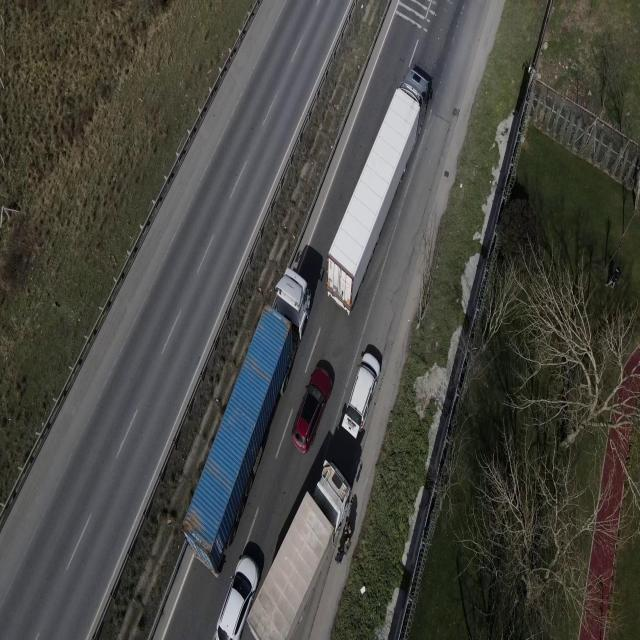p3rson: (605, 267, 620, 289), (343, 536, 351, 556), (335, 547, 343, 565), (344, 521, 352, 536)
